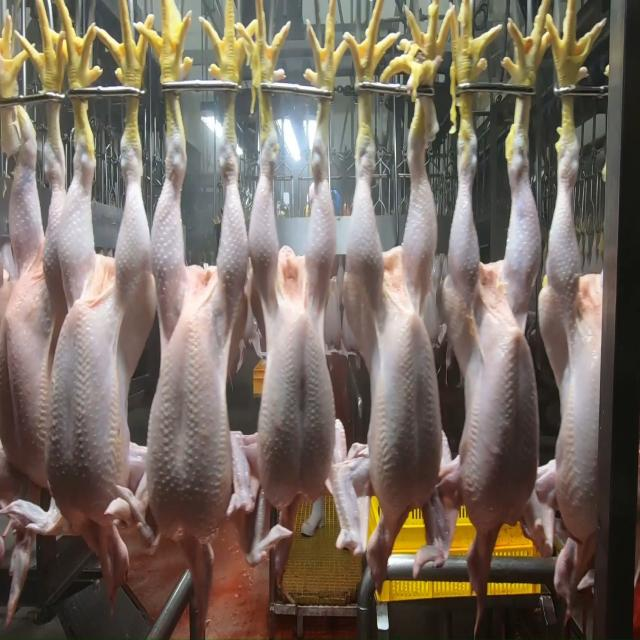chicken: (43, 133, 149, 526), (148, 128, 248, 536), (449, 121, 540, 528), (350, 109, 444, 500), (252, 131, 337, 514), (556, 111, 608, 543), (0, 98, 52, 470)
